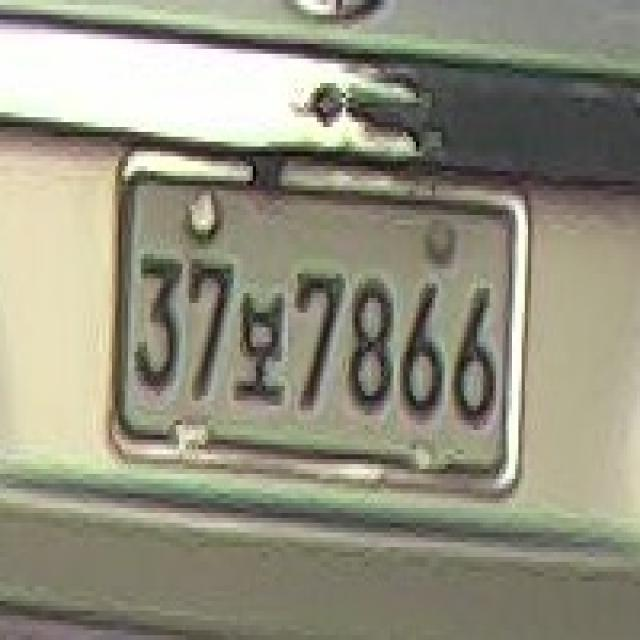3: (132, 249, 182, 396)
6: (451, 283, 496, 430), (400, 284, 445, 411)
7: (182, 259, 234, 401), (292, 269, 342, 410)
8: (348, 274, 394, 415)
bo: (237, 288, 285, 406)
license_plate: (109, 161, 518, 484)
